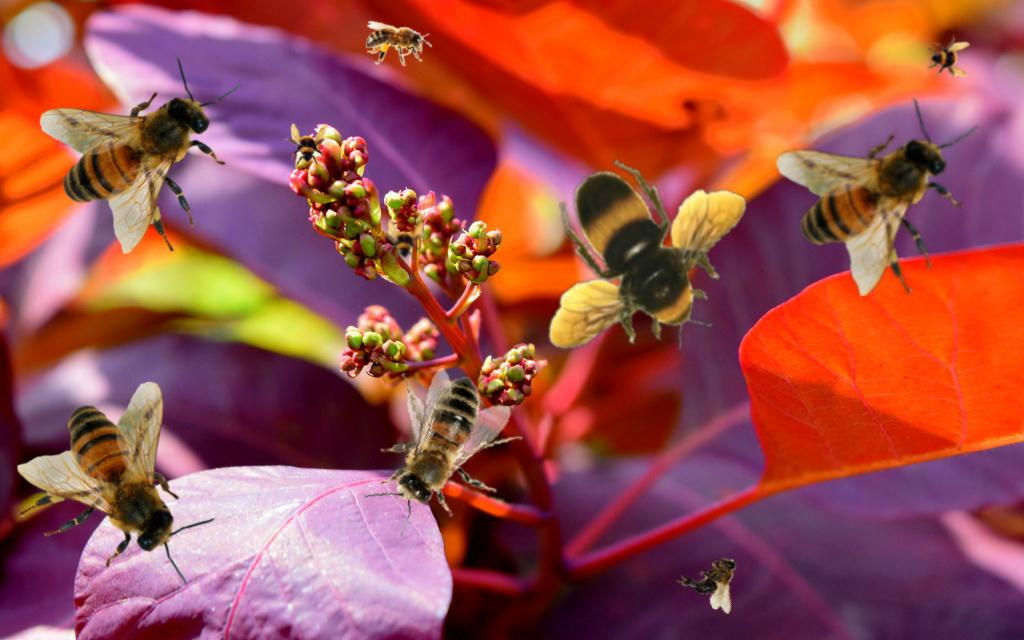Bee: (500, 124, 772, 407), (17, 381, 216, 585), (776, 97, 980, 296), (39, 55, 243, 254), (346, 358, 535, 542), (674, 539, 755, 617), (366, 21, 432, 66), (381, 219, 425, 263), (284, 123, 328, 167), (926, 35, 970, 79)
